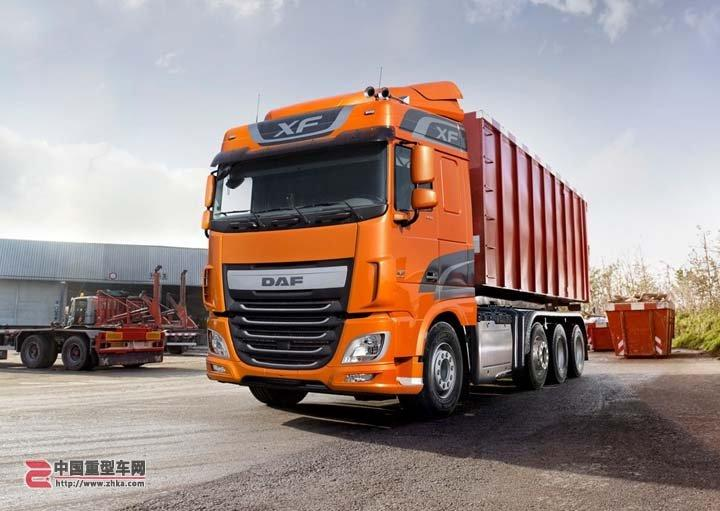truck: (200, 76, 604, 415)
